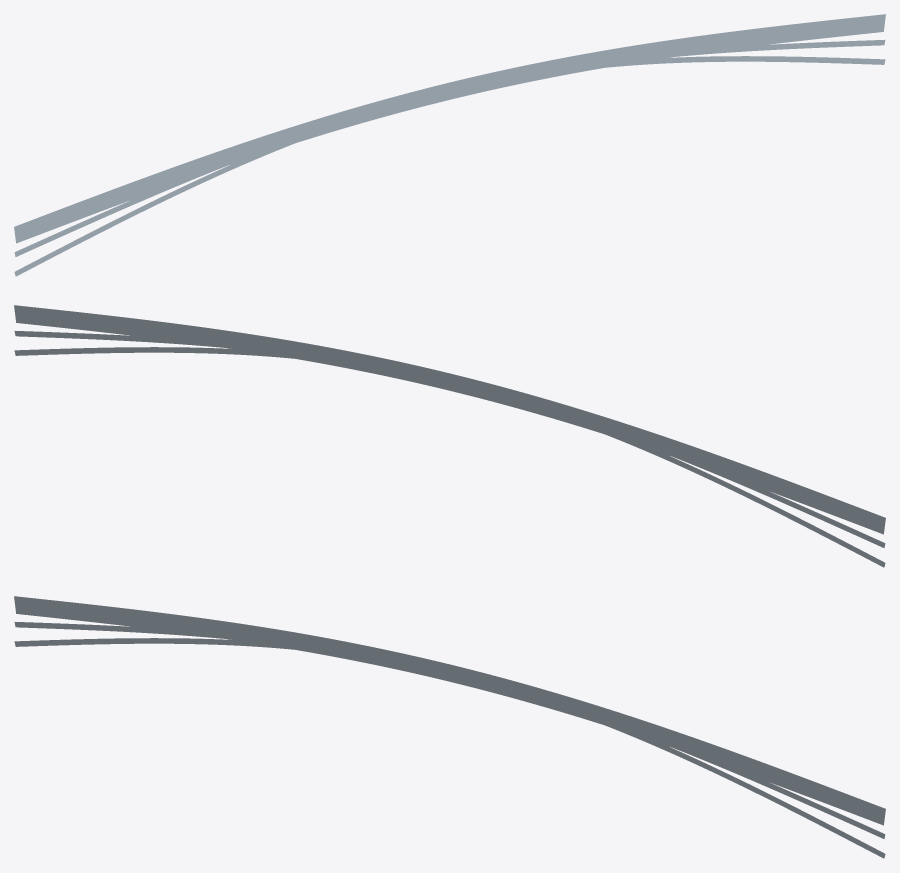
Rendered from Xinyan_RiffRevolutionCast_OnePhysicalStrumWave.fbx.
The picture shows the model from 3 angles, top to bottom: view 1: azimuth 30°, elevation 25°; view 2: azimuth 150°, elevation 25°; view 3: azimuth 330°, elevation 25°; orthographic projection.
Parts seen in each view (by area): view 1: PART_WhiteGoldPhysicalSoundStroke_0, PART_WhiteGoldPhysicalSoundStroke_2, PART_WhiteGoldPhysicalSoundStroke_1; view 2: PART_WhiteGoldPhysicalSoundStroke_0, PART_WhiteGoldPhysicalSoundStroke_2, PART_WhiteGoldPhysicalSoundStroke_1; view 3: PART_WhiteGoldPhysicalSoundStroke_0, PART_WhiteGoldPhysicalSoundStroke_2, PART_WhiteGoldPhysicalSoundStroke_1.
Boxes of the visible parts, x1=… form: PART_WhiteGoldPhysicalSoundStroke_0: x1=14, y1=14, x2=885, y2=243; PART_WhiteGoldPhysicalSoundStroke_2: x1=14, y1=56, x2=885, y2=276; PART_WhiteGoldPhysicalSoundStroke_1: x1=14, y1=40, x2=885, y2=256; PART_WhiteGoldPhysicalSoundStroke_0: x1=14, y1=305, x2=885, y2=534; PART_WhiteGoldPhysicalSoundStroke_2: x1=14, y1=347, x2=885, y2=567; PART_WhiteGoldPhysicalSoundStroke_1: x1=14, y1=331, x2=885, y2=547; PART_WhiteGoldPhysicalSoundStroke_0: x1=14, y1=596, x2=885, y2=825; PART_WhiteGoldPhysicalSoundStroke_2: x1=14, y1=638, x2=885, y2=858; PART_WhiteGoldPhysicalSoundStroke_1: x1=14, y1=622, x2=885, y2=838.
Bounding box in the file's own units: 840 × 81.42 × 1.33e-05.
